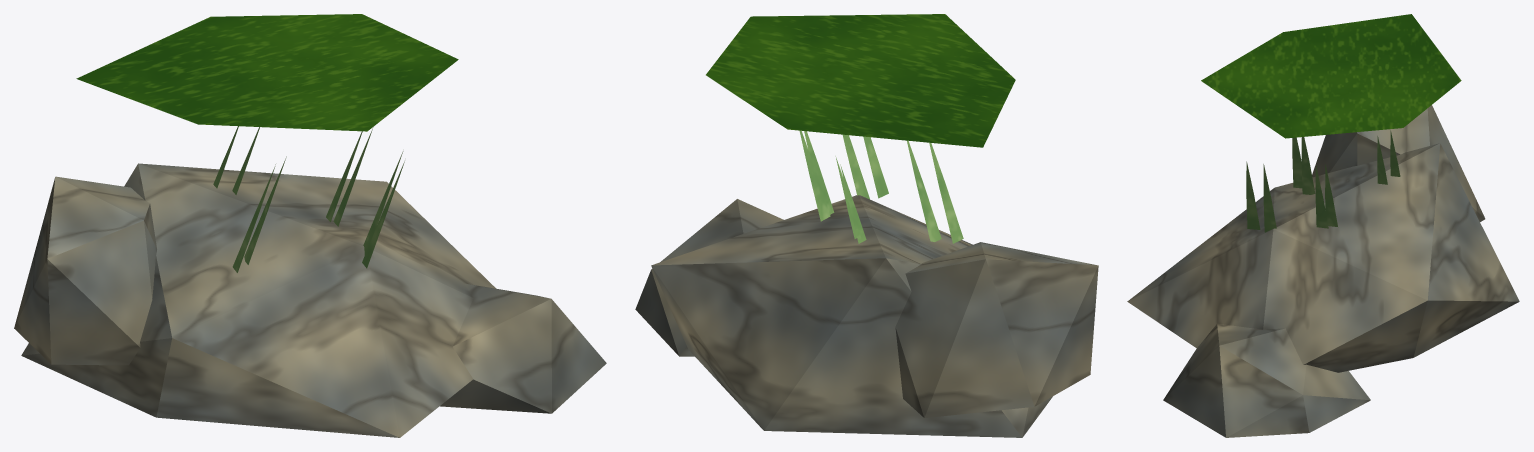
File: rim_rock_cloud_c.glb
3 renders of one model, left to right at view 1: azimuth 30°, elevation 25°; view 2: azimuth 150°, elevation 25°; view 3: azimuth 270°, elevation 25°, orthographic. The views are drawn at different scales.
Parts seen in each view (by area): view 1: rim_rock_cloud_c; view 2: rim_rock_cloud_c; view 3: rim_rock_cloud_c.
Boxes of the visible parts, bbox=[...] form: rim_rock_cloud_c: bbox=[14, 14, 606, 437]; rim_rock_cloud_c: bbox=[635, 14, 1098, 437]; rim_rock_cloud_c: bbox=[1127, 14, 1519, 437].
Size of the model in its own units: 3.18 by 1.89 by 2.65.
Materials: 3 (3 with a texture image).
